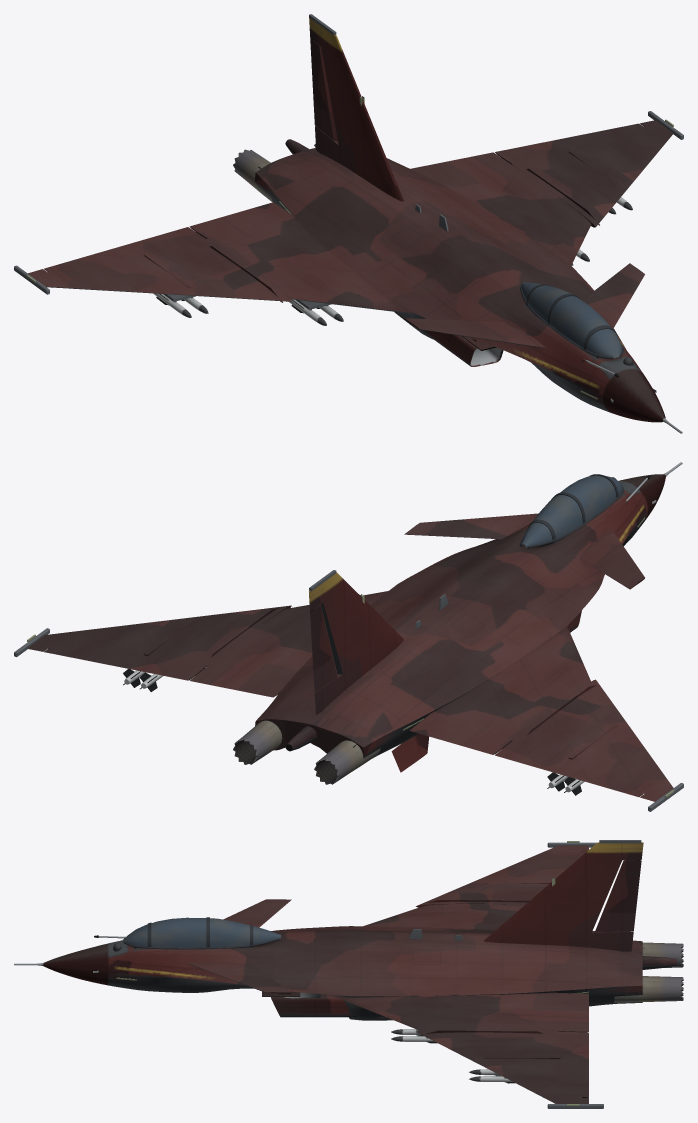
Rendered from vanta-v2-rusk.fbx.
3 views of the same model, one above another, from view 1: azimuth 30°, elevation 25°; view 2: azimuth 150°, elevation 25°; view 3: azimuth 270°, elevation 25° (orthographic). The views are drawn at different scales.
Visible parts, largest first — view 1: Body, Canopy, Elevator_L, Elevator_R, Aileron_L, Aileron_R, Rudder; view 2: Body, Canopy, Elevator_R, Elevator_L, Aileron_L, Aileron_R, Rudder; view 3: Body, Canopy, Rudder, Elevator_R, Aileron_R, Elevator_L.
Boxes of the visible parts, x1,y1,x2,y2 form: Body: [14, 14, 683, 433]; Canopy: [521, 282, 622, 358]; Elevator_L: [404, 318, 545, 348]; Elevator_R: [582, 263, 644, 328]; Aileron_L: [44, 227, 205, 271]; Aileron_R: [495, 123, 642, 164]; Rudder: [310, 38, 337, 141]; Body: [14, 462, 683, 811]; Canopy: [521, 475, 622, 547]; Elevator_R: [404, 513, 538, 539]; Elevator_L: [579, 529, 644, 589]; Aileron_L: [495, 741, 643, 797]; Aileron_R: [44, 648, 205, 680]; Rudder: [310, 605, 337, 691]; Body: [14, 840, 683, 1108]; Canopy: [122, 917, 280, 947]; Rudder: [595, 860, 641, 932]; Elevator_R: [188, 962, 291, 993]; Aileron_R: [558, 1031, 588, 1097]; Elevator_L: [223, 899, 291, 927].
Size of the model in its own units: 24.58 by 7.3 by 26.4.
1 material, 1 textured.
